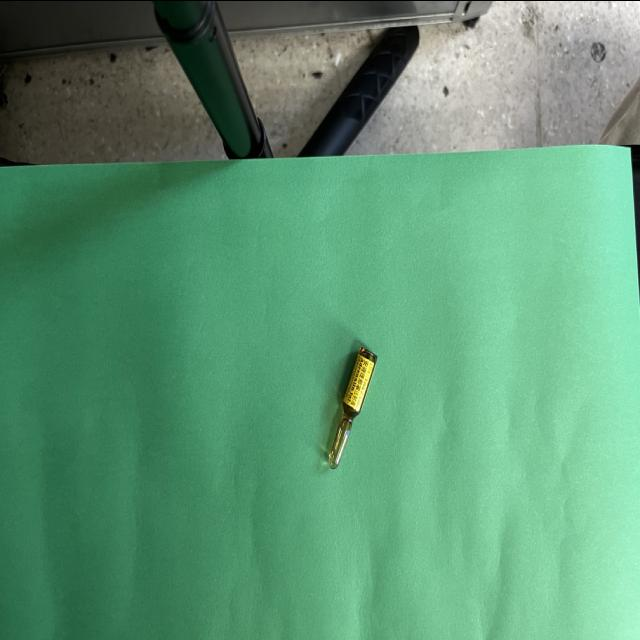Ampoules: (328, 345, 377, 467)
